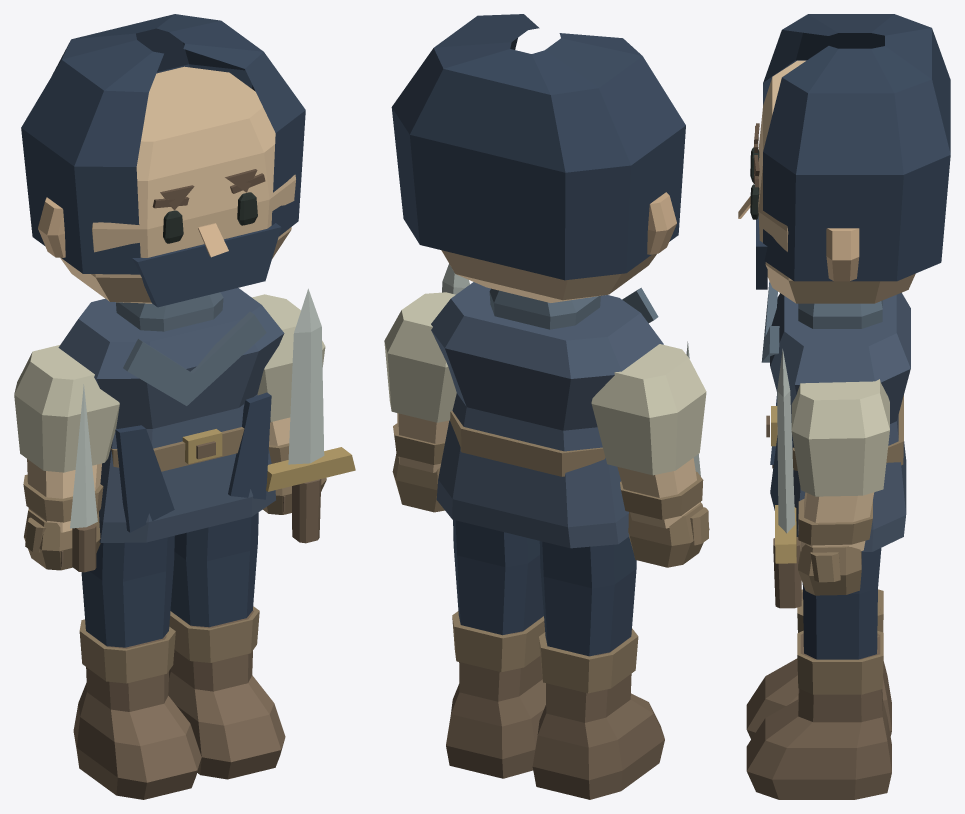
File: assassin-CD4CykoK.glb
3 views of the same model, side by side, from view 1: azimuth 30°, elevation 25°; view 2: azimuth 150°, elevation 25°; view 3: azimuth 270°, elevation 25° (orthographic). The views are drawn at different scales.
Visible parts, largest first — view 1: Open face tailored hood, Tunic tailored body, Sculpted jaw cheeks forehead, Boot shaped ankle and toe L, Boot shaped ankle and toe R, Sleeve L, Trouser L, Trouser R, Cloth half mask, Sword blade, Cross folded scarf, Tunic side pleat (+16 smaller); view 2: Open face tailored hood, Tunic tailored body, Boot shaped ankle and toe L, Sleeve L, Trouser L, Boot shaped ankle and toe R, Trouser R, Sleeve R, Sculpted jaw cheeks forehead, Boot cuff L, Leather belt, Boot cuff R (+9 smaller); view 3: Open face tailored hood, Boot shaped ankle and toe R, Tunic tailored body, Sleeve R, Trouser R, Sculpted jaw cheeks forehead, Boot cuff R, Boot shaped ankle and toe L, Sword blade, Glove palm R, Raised collar, Forearm R (+9 smaller).
Part boxes in pixels (x1=…): Open face tailored hood: x1=21, y1=14, x2=305, y2=274; Tunic tailored body: x1=58, y1=288, x2=284, y2=542; Sculpted jaw cheeks forehead: x1=60, y1=66, x2=295, y2=303; Boot shaped ankle and toe L: x1=73, y1=635, x2=201, y2=799; Boot shaped ankle and toe R: x1=168, y1=610, x2=285, y2=779; Sleeve L: x1=14, y1=345, x2=119, y2=472; Trouser L: x1=81, y1=535, x2=174, y2=647; Trouser R: x1=170, y1=512, x2=258, y2=627; Cloth half mask: x1=132, y1=223, x2=281, y2=307; Sword blade: x1=288, y1=288, x2=324, y2=464; Cross folded scarf: x1=123, y1=311, x2=266, y2=405; Tunic side pleat: x1=115, y1=425, x2=174, y2=532; Open face tailored hood: x1=391, y1=14, x2=685, y2=280; Tunic tailored body: x1=431, y1=282, x2=663, y2=548; Boot shaped ankle and toe L: x1=532, y1=642, x2=664, y2=799; Sleeve L: x1=591, y1=344, x2=706, y2=475; Trouser L: x1=539, y1=537, x2=636, y2=656; Boot shaped ankle and toe R: x1=446, y1=621, x2=545, y2=778; Trouser R: x1=453, y1=519, x2=543, y2=635; Sleeve R: x1=384, y1=292, x2=456, y2=422; Sculpted jaw cheeks forehead: x1=441, y1=250, x2=656, y2=302; Boot cuff L: x1=539, y1=628, x2=638, y2=693; Leather belt: x1=450, y1=411, x2=605, y2=476; Boot cuff R: x1=452, y1=611, x2=544, y2=672; Open face tailored hood: x1=763, y1=14, x2=950, y2=281; Boot shaped ankle and toe R: x1=746, y1=633, x2=891, y2=799; Tunic tailored body: x1=770, y1=292, x2=910, y2=551; Sleeve R: x1=791, y1=379, x2=889, y2=496; Trouser R: x1=802, y1=548, x2=881, y2=659; Sculpted jaw cheeks forehead: x1=758, y1=60, x2=915, y2=303; Boot cuff R: x1=797, y1=630, x2=883, y2=694; Boot shaped ankle and toe L: x1=746, y1=592, x2=891, y2=739; Sword blade: x1=777, y1=349, x2=795, y2=533; Glove palm R: x1=798, y1=544, x2=861, y2=595; Raised collar: x1=798, y1=300, x2=882, y2=328; Forearm R: x1=800, y1=492, x2=874, y2=551.
Size of the model in its own units: 0.76 by 1.69 by 0.453.
